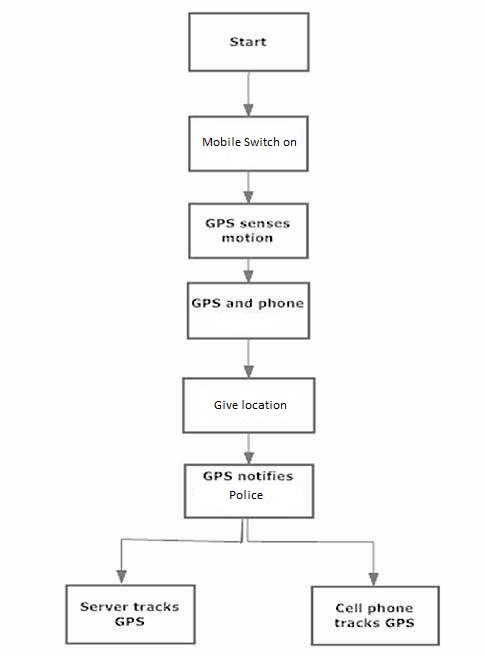arrow: (114, 517, 245, 586), (243, 521, 381, 586), (240, 71, 255, 119), (241, 336, 255, 378), (241, 165, 255, 205), (242, 432, 256, 464), (241, 257, 256, 284)
process: (307, 582, 444, 650), (62, 582, 200, 648), (179, 375, 318, 438), (181, 461, 318, 523), (186, 9, 314, 75), (185, 279, 313, 345), (185, 200, 313, 264), (186, 113, 312, 175)
text: (78, 597, 180, 629), (204, 469, 296, 502), (330, 599, 417, 631), (203, 215, 292, 246), (190, 294, 308, 314), (200, 131, 299, 151), (211, 398, 289, 413), (227, 34, 270, 53)
